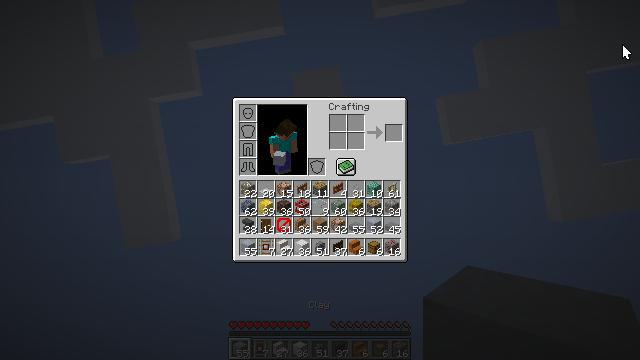cursor: (622, 44, 632, 60)
